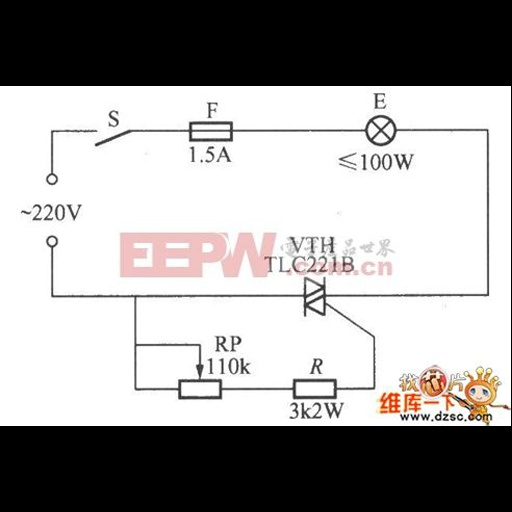firstresistance: (285, 374, 343, 401)
fuse: (183, 118, 240, 145)
light: (362, 114, 400, 147)
